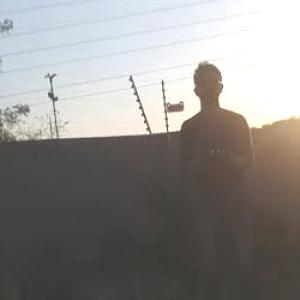follow: (173, 54, 262, 299)
